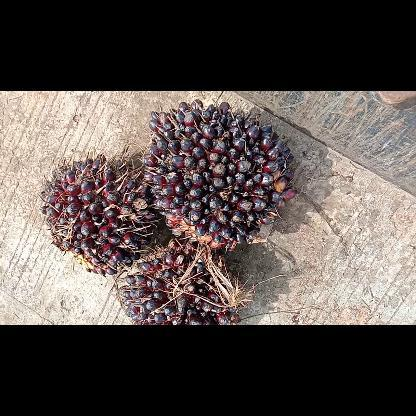TBS mentah: (142, 96, 300, 252), (38, 151, 158, 275), (120, 238, 242, 324)
